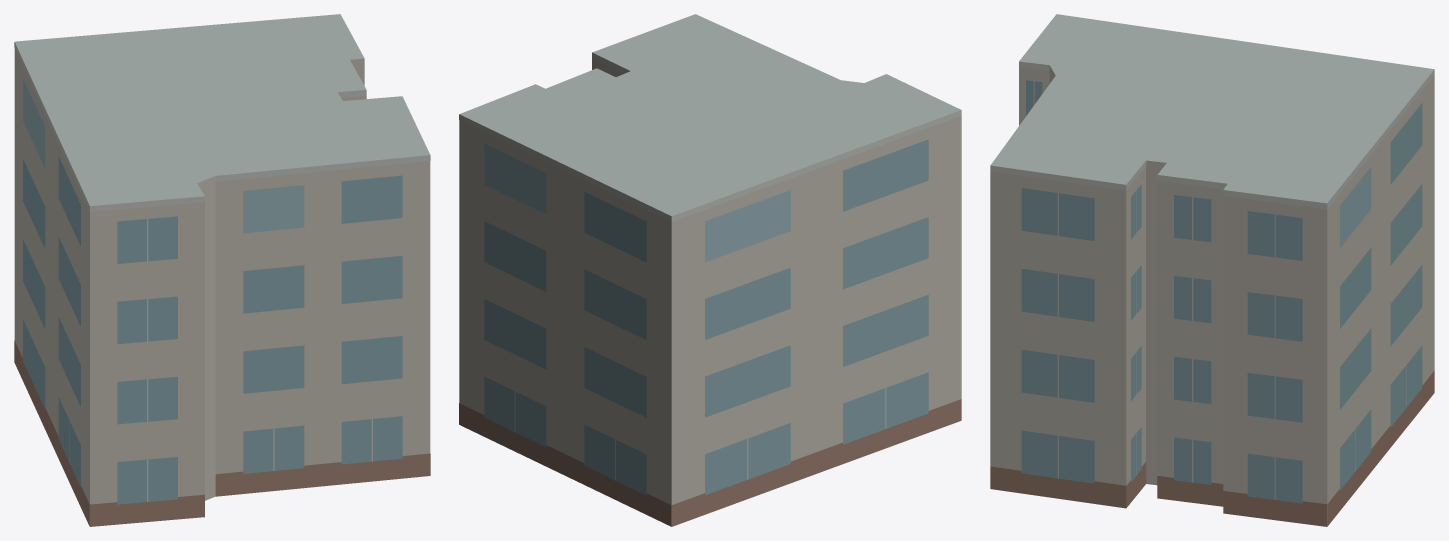
The model's file is survey-upis-33028123.glb.
3 renders of one model, left to right at view 1: azimuth 30°, elevation 25°; view 2: azimuth 150°, elevation 25°; view 3: azimuth 270°, elevation 25°, orthographic. The views are drawn at different scales.
Parts seen in each view (by area): view 1: survey-upis-33028123.tmp; view 2: survey-upis-33028123.tmp; view 3: survey-upis-33028123.tmp.
Part boxes in pixels (x1,y1,x2,y2): survey-upis-33028123.tmp: (14, 14, 430, 526); survey-upis-33028123.tmp: (459, 14, 961, 526); survey-upis-33028123.tmp: (990, 14, 1434, 526).
Bounding box in the file's own units: 16.58 × 13.2 × 16.44.
